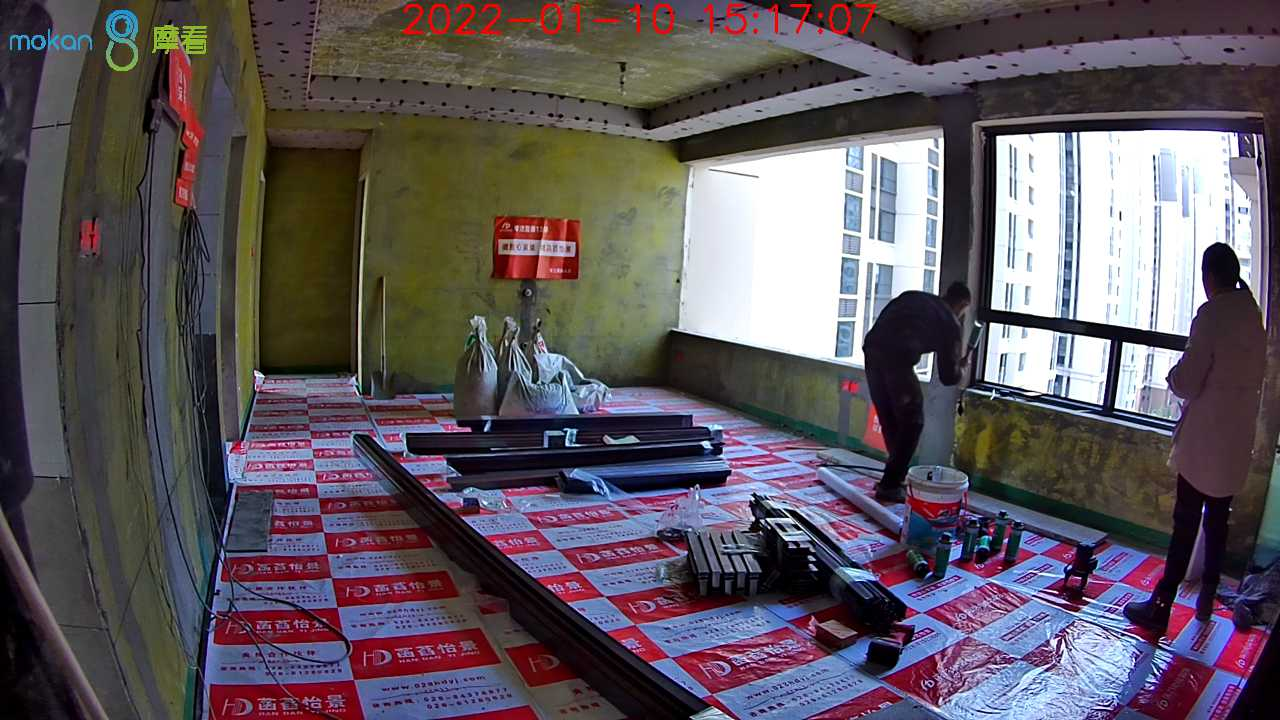people: (1123, 243, 1269, 640), (861, 283, 977, 499)
window: (984, 119, 1268, 418), (682, 145, 934, 381)
